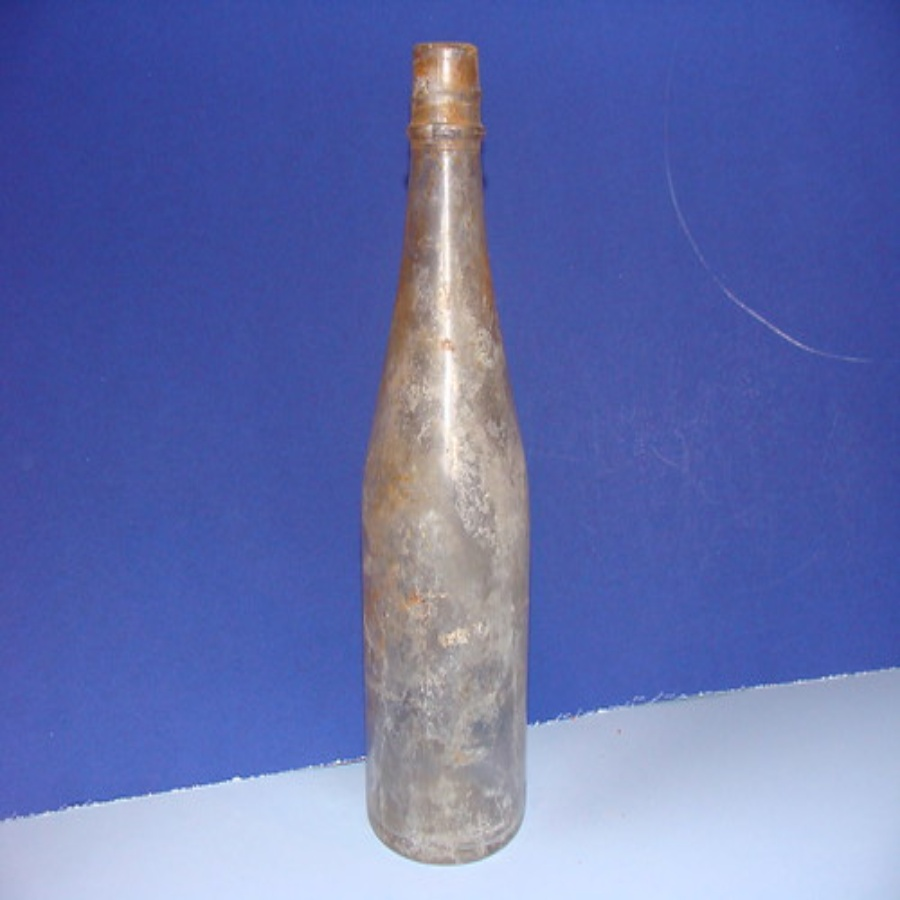beer: (361, 28, 546, 884)
